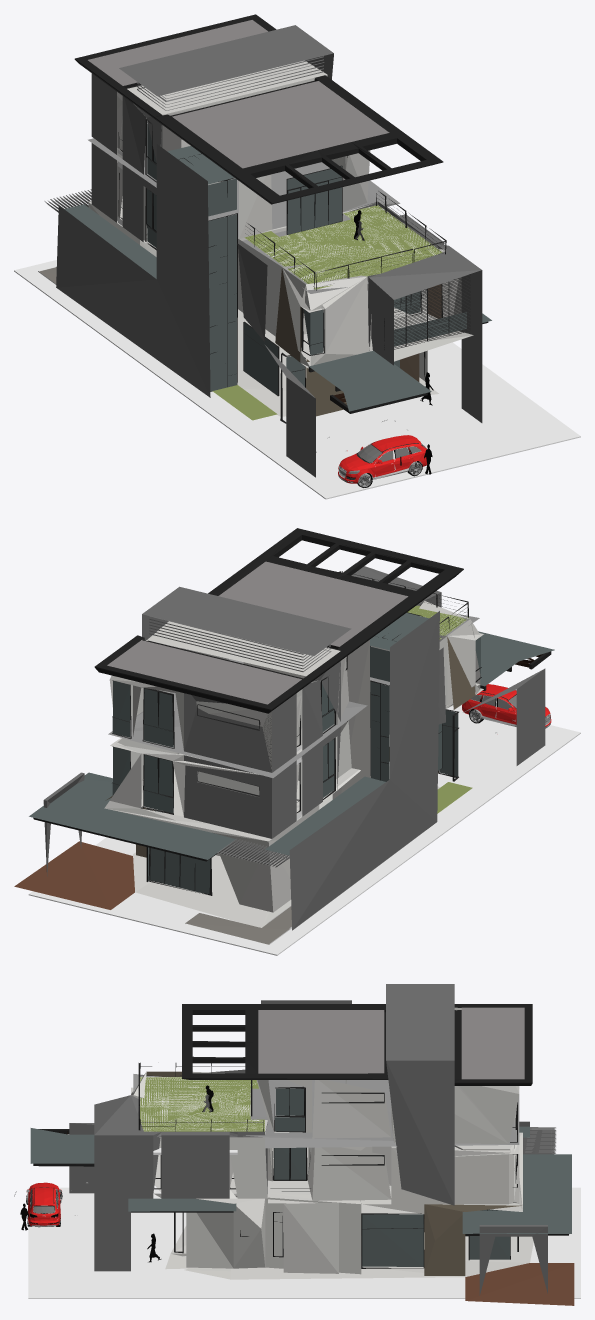
Rendered from house-12marla.glb.
3 views of the same model, one above another, from view 1: azimuth 30°, elevation 25°; view 2: azimuth 150°, elevation 25°; view 3: azimuth 270°, elevation 25° (orthographic). The views are drawn at different scales.
Parts seen in each view (by area): view 1: bump_rea01 1_6; view 2: bump_rea01 1_6; view 3: bump_rea01 1_6.
Boxes of the visible parts, box(x1,y1,x2,y2) form: bump_rea01 1_6: box(14, 14, 580, 499); bump_rea01 1_6: box(14, 528, 580, 955); bump_rea01 1_6: box(14, 984, 580, 1305).
Bounding box in the file's own units: 15 × 12.93 × 30.33.
Materials: 1 (1 with a texture image).
